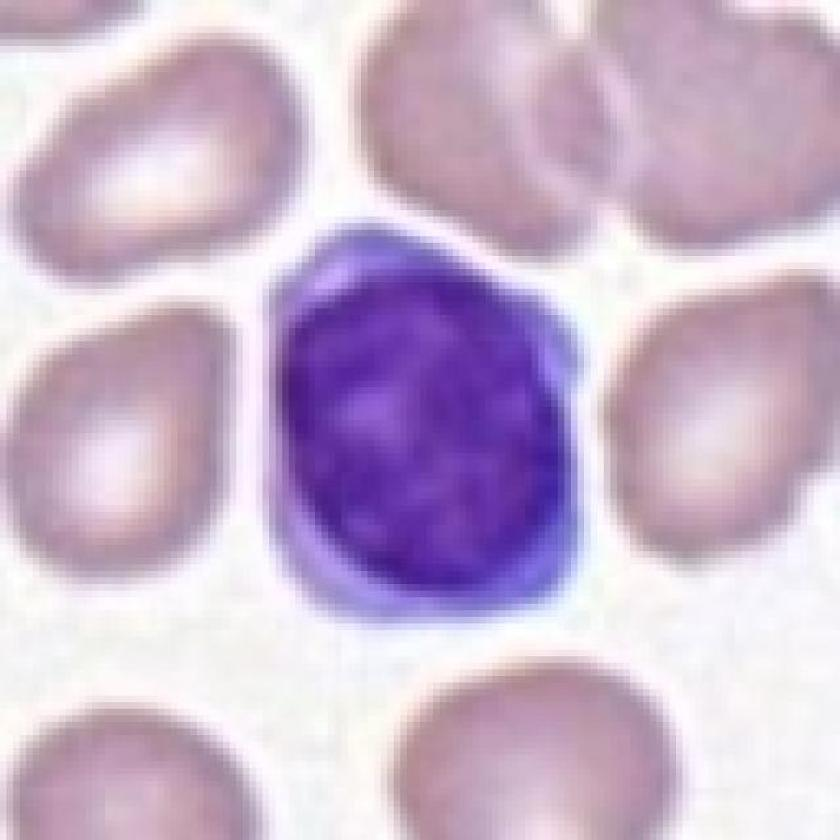lymphocyte: (255, 213, 591, 633)
